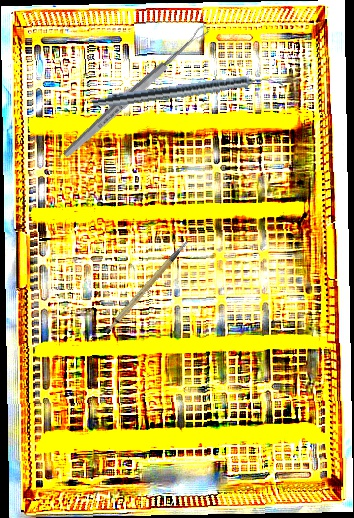Handpiece: (91, 69, 284, 114)
Scalpel Handle: (93, 239, 202, 337)
Surgical Spoon: (61, 23, 211, 160)
